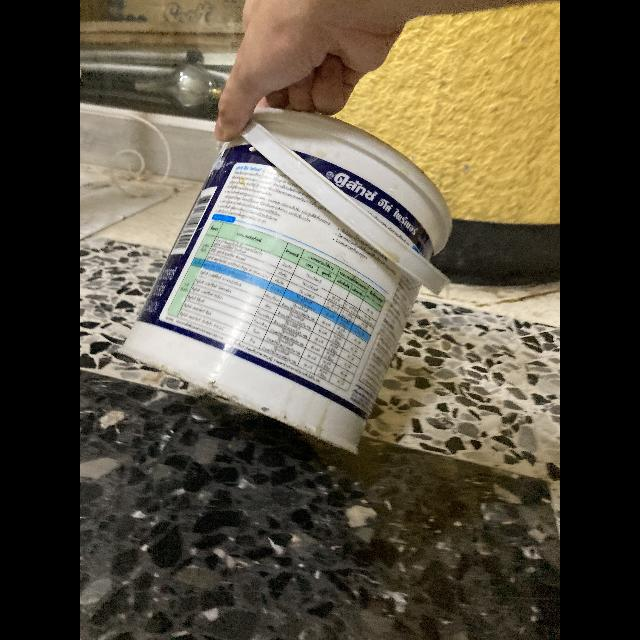paint_bucket: (120, 108, 458, 456)
